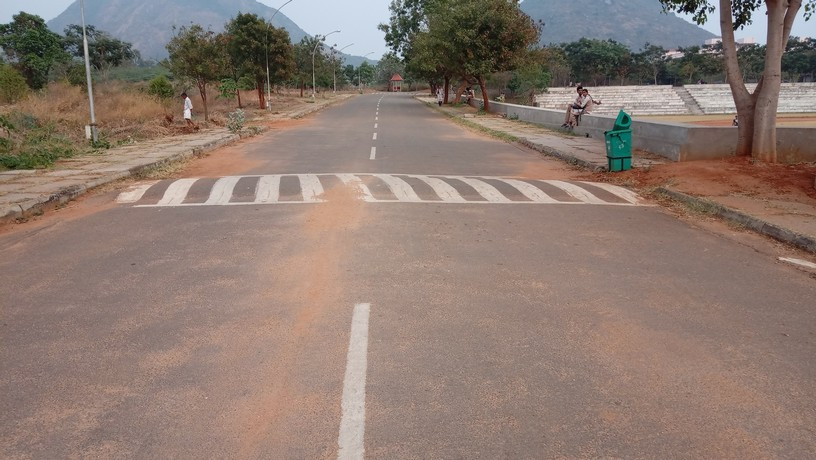bump: (109, 176, 649, 204)
